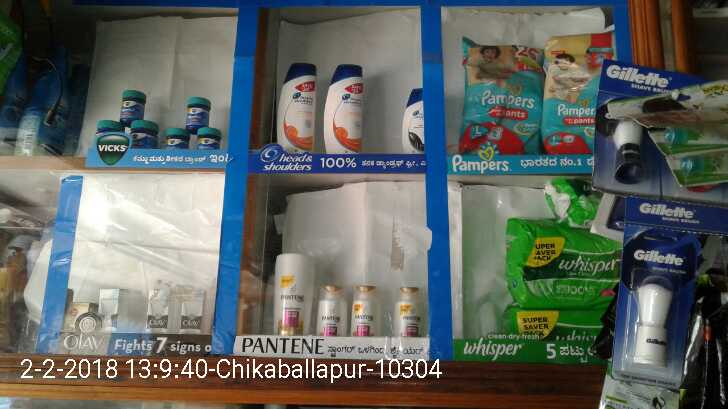beauty: (617, 224, 685, 385), (602, 63, 659, 200), (275, 61, 318, 158), (325, 63, 367, 157), (272, 249, 309, 339), (315, 284, 349, 335), (399, 86, 424, 153), (143, 285, 170, 335), (352, 284, 378, 331), (395, 288, 421, 335), (97, 288, 120, 334), (184, 289, 205, 335)
pharmacy: (509, 220, 620, 309), (539, 31, 614, 157), (462, 37, 539, 154), (505, 308, 610, 342), (120, 87, 147, 127), (126, 120, 159, 147), (186, 94, 210, 131), (162, 127, 190, 149), (197, 127, 218, 150)
